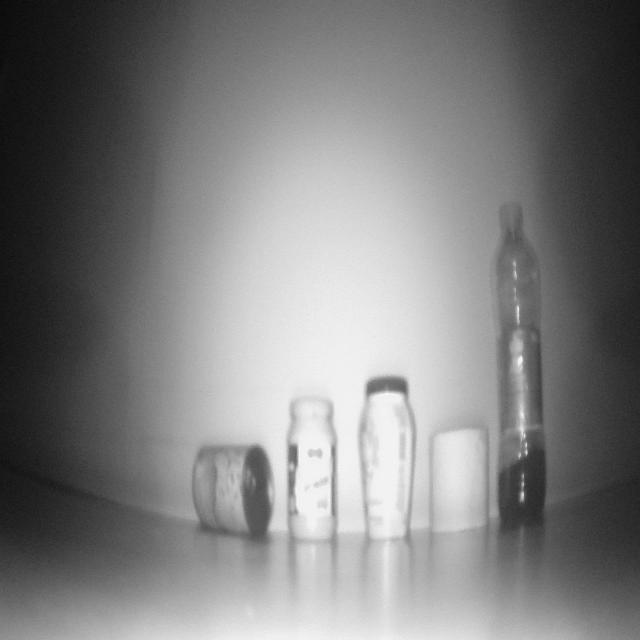targets: (494, 194, 551, 527), (362, 373, 414, 538), (192, 437, 274, 539), (287, 390, 339, 543), (428, 422, 490, 532)
